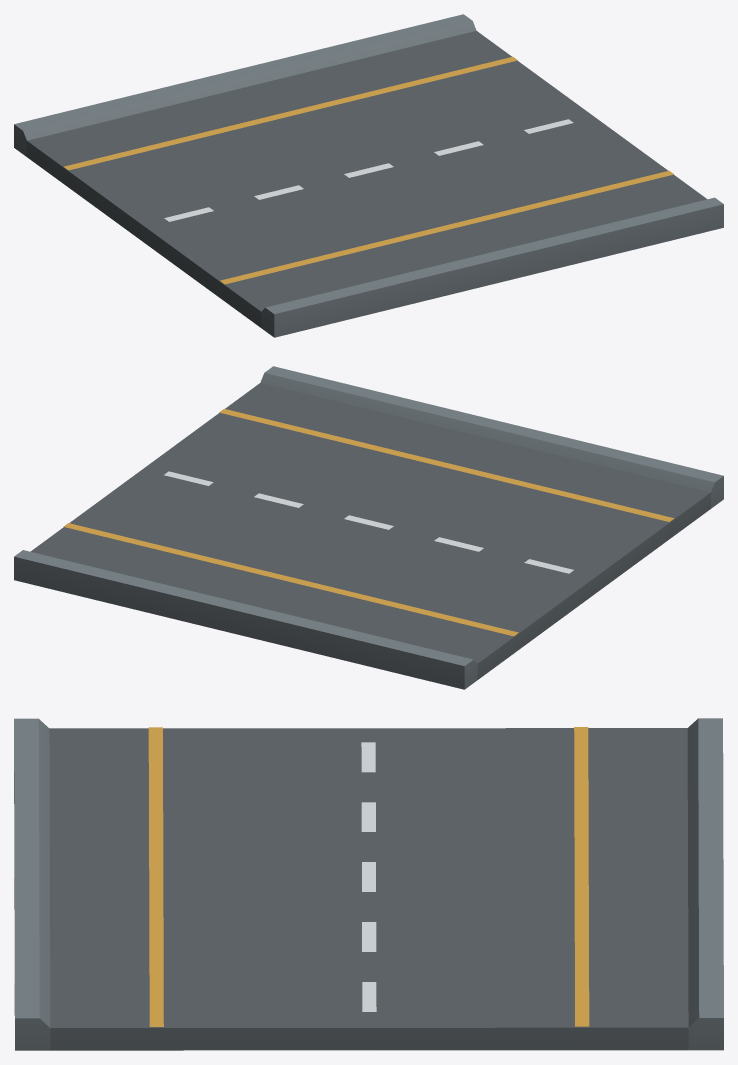
The model's file is road_straight.013_lev3.glb.
3 views of the same model, one above another, from view 1: azimuth 30°, elevation 25°; view 2: azimuth 150°, elevation 25°; view 3: azimuth 270°, elevation 25° (orthographic). The views are drawn at different scales.
Visible parts, largest first — view 1: road_straight.013_lev3; view 2: road_straight.013_lev3; view 3: road_straight.013_lev3.
Part boxes in pixels (x1,y1,x2,y2): road_straight.013_lev3: (14, 14, 723, 337); road_straight.013_lev3: (14, 366, 723, 689); road_straight.013_lev3: (14, 718, 723, 1050).
Size of the model in its own units: 8.91 by 0.4451 by 8.91.
Materials: 1 (1 with a texture image).
